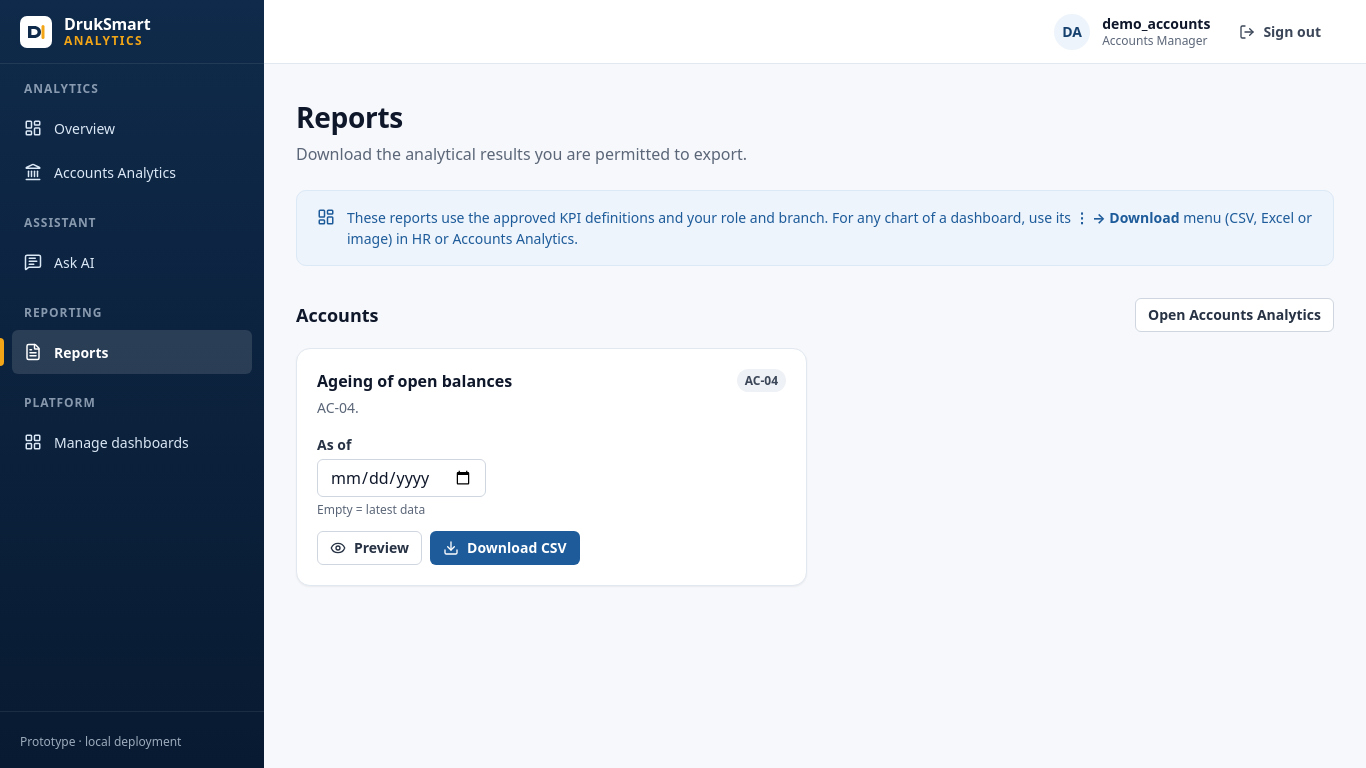
Test: Reports › shows the backend's message for an invalid date
Click the button "Preview" at (370, 548), box [317,531,422,565]
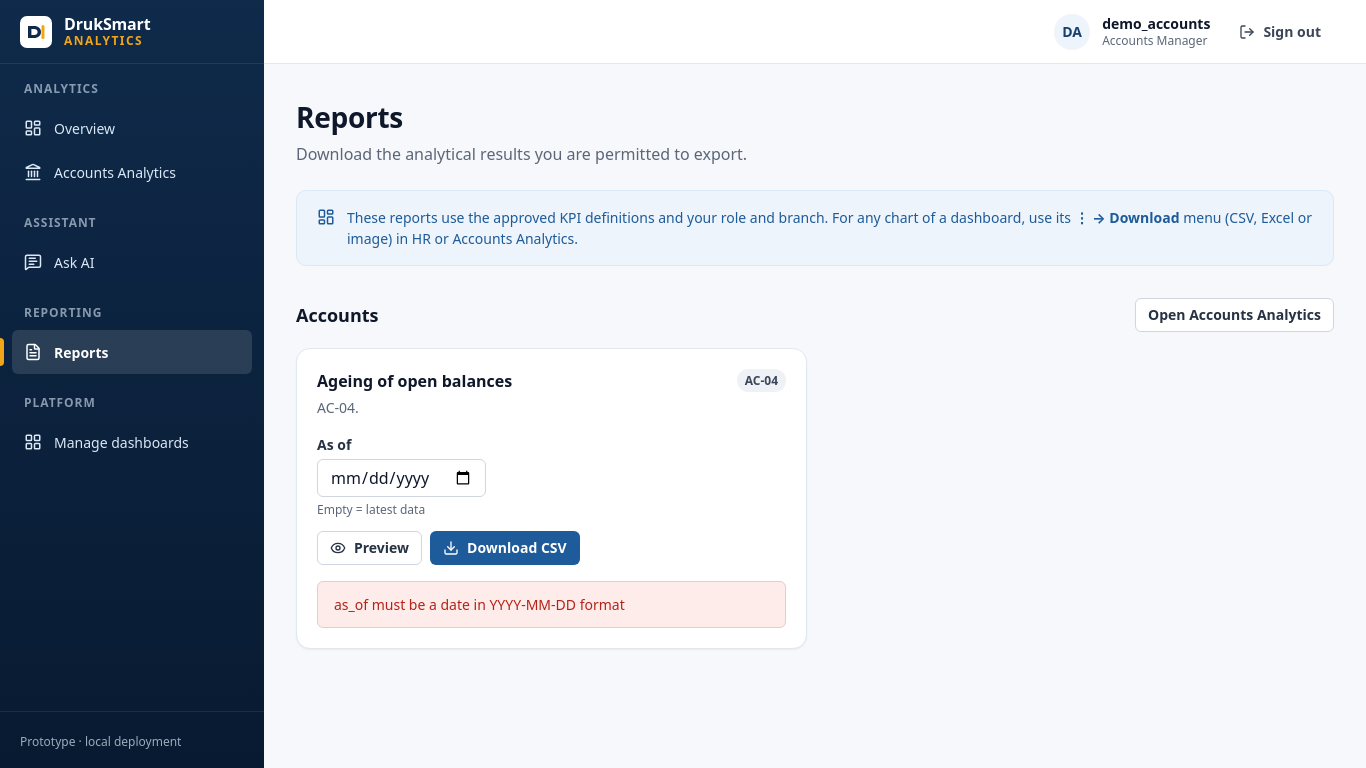
Check: the message shows "as_of must be a date", box [334,595,625,614]
